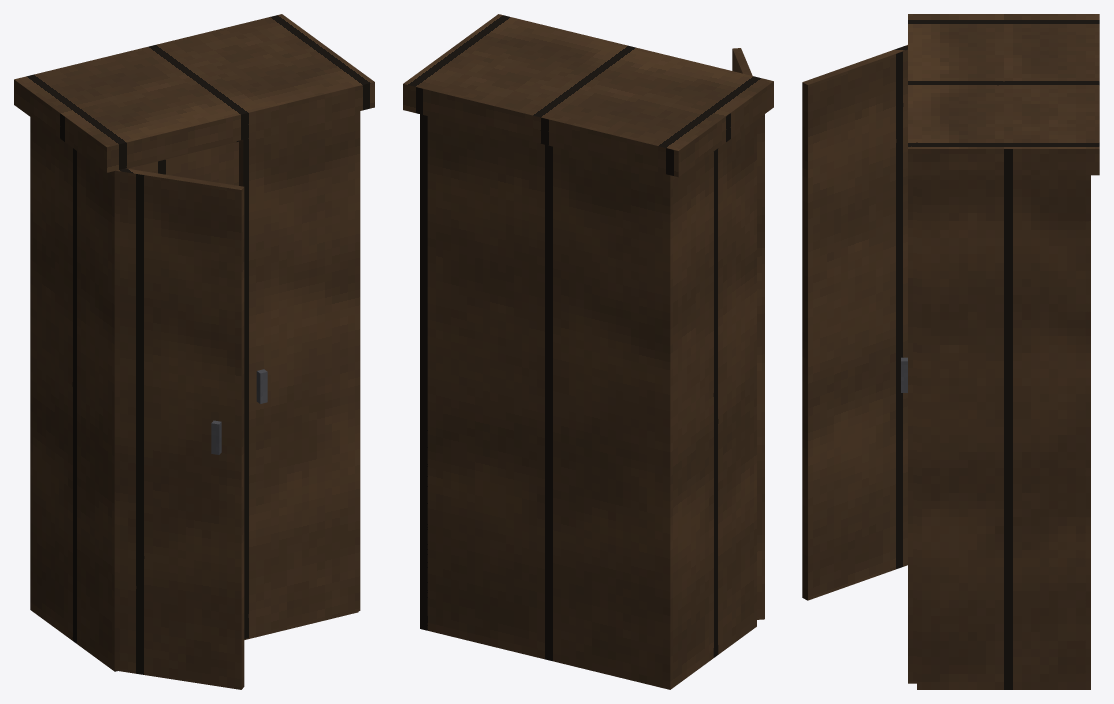
File: int_wardrobe.glb
3 renders of one model, left to right at view 1: azimuth 30°, elevation 25°; view 2: azimuth 150°, elevation 25°; view 3: azimuth 270°, elevation 25°, orthographic. The views are drawn at different scales.
Visible parts, largest first — view 1: detail, body-col; view 2: body-col, detail; view 3: detail, body-col.
Part boxes in pixels (left/top/right/bottom): detail: left=14, top=14, right=374, bottom=689; body-col: left=30, top=117, right=358, bottom=671; body-col: left=420, top=114, right=756, bottom=689; detail: left=403, top=14, right=773, bottom=619; detail: left=802, top=14, right=1099, bottom=683; body-col: left=917, top=175, right=1090, bottom=689.
Size of what is drawn, in the model's own units: 1.1 by 2.08 by 1.02.
Materials: 2 (2 with a texture image).
